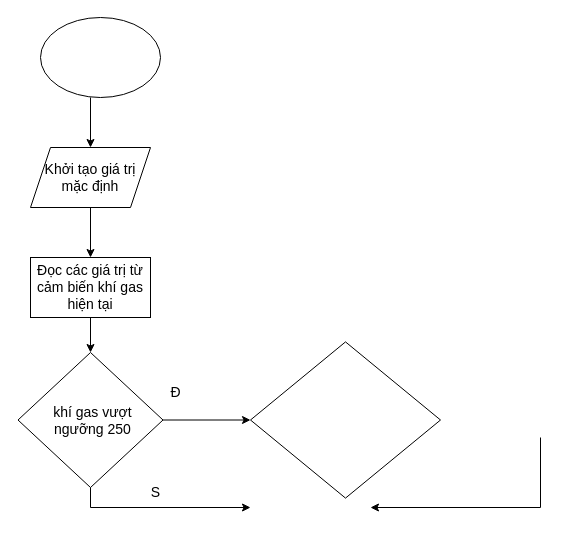
Some shapes in this 566 by 533 pixel diagram are drawn without their labels. Each missing label, with the box of its shape:
Bắt đầu: (40, 16, 160, 98)
Khí gas hiện tại lớn hơn giá trị khí gas trước đó: (250, 341, 440, 498)
